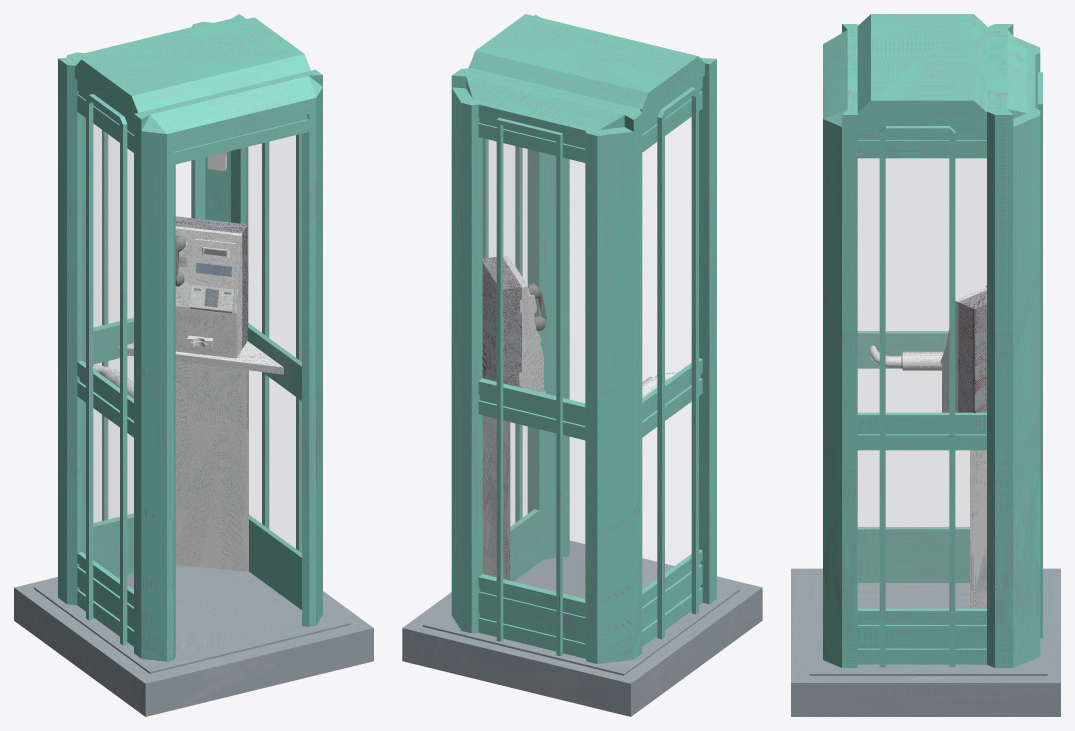
File: Phone booth.fbx
3 views of the same model, side by side, from view 1: azimuth 30°, elevation 25°; view 2: azimuth 150°, elevation 25°; view 3: azimuth 270°, elevation 25° (orthographic). The views are drawn at different scales.
Parts seen in each view (by area): view 1: Group3, Phone_Booth1, Group2; view 2: Group3, Phone_Booth1, Group2; view 3: Group3, Phone_Booth1, Group2, Group4.
Part boxes in pixels (x1,y1,x2,y2): Group3: (14,14,373,716); Phone_Booth1: (83,117,301,588); Group2: (175,216,248,358); Group3: (402,14,762,716); Phone_Booth1: (482,118,690,598); Group2: (482,255,543,393); Group3: (791,14,1060,716); Phone_Booth1: (858,158,986,608); Group2: (940,287,986,413); Group4: (869,345,943,370).
Bounding box in the file's own units: 1046 × 2566 × 1043.
